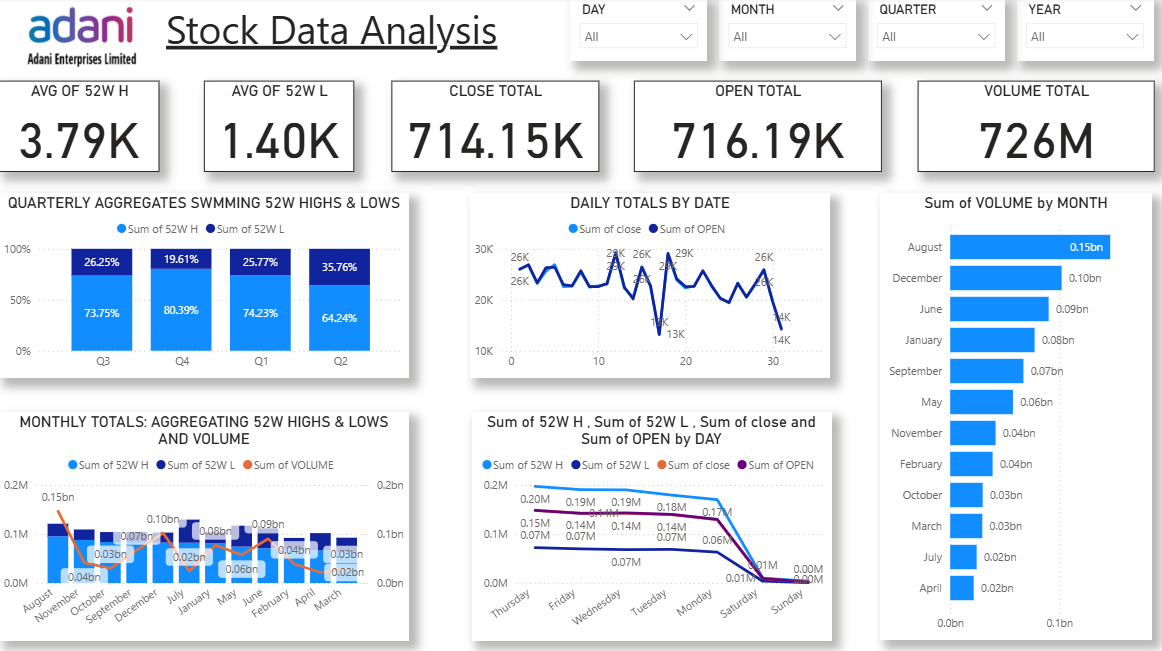

The page's visual inventory and layout, read from the dashboard file:
{"tool":"powerbi","page":{"name":"Page 1","canvas":[1280,720],"ordinal":0},"visuals":[{"type":"slicer","fields":{"Values":["ADANI DATA ANALYST.YEAR"]},"box":[1117,0,150,70],"z":0},{"type":"slicer","fields":{"Values":["ADANI DATA ANALYST.DAY"]},"box":[627.1,0,150,70],"z":1000},{"type":"slicer","fields":{"Values":["ADANI DATA ANALYST.MONTH"]},"box":[790.4,0,150,70],"z":2000},{"type":"slicer","fields":{"Values":["ADANI DATA ANALYST.QUARTER"]},"box":[953.7,0,150,70],"z":3000},{"type":"card","title":"AVG OF 52W H","fields":{"Values":["Avg(ADANI DATA ANALYST.52W H )"]},"box":[0,91.9,175.6,100.2],"z":4000},{"type":"card","title":"VOLUME TOTAL","fields":{"Values":["Sum(ADANI DATA ANALYST.VOLUME )"]},"box":[1008.6,91.9,260,100.2],"z":5000},{"type":"card","title":"CLOSE TOTAL","fields":{"Values":["Sum(ADANI DATA ANALYST.close )"]},"box":[430.9,91.9,227.8,100.2],"z":6000},{"type":"card","title":"AVG OF 52W L","fields":{"Values":["Avg(ADANI DATA ANALYST.52W L )"]},"box":[225,91.9,165,100.2],"z":7000},{"type":"card","title":"OPEN TOTAL","fields":{"Values":["Sum(ADANI DATA ANALYST.OPEN )"]},"box":[697.1,91.9,271.7,100.2],"z":8000},{"type":"hundredPercentStackedColumnChart","title":"QUARTERLY AGGREGATES SWMMING 52W HIGHS & LOWS","fields":{"Y":["Sum(ADANI DATA ANALYST.52W H )","Sum(ADANI DATA ANALYST.52W L )"],"Category":["ADANI DATA ANALYST.QUARTER"]},"box":[0,215,450.1,203.1],"z":9000},{"type":"lineStackedColumnComboChart","title":"MONTHLY TOTALS: AGGREGATING 52W HIGHS & LOWS  AND VOLUME","fields":{"Y":["Sum(ADANI DATA ANALYST.52W H )","Sum(ADANI DATA ANALYST.52W L )"],"Category":["ADANI DATA ANALYST.MONTH"],"Y2":["Sum(ADANI DATA ANALYST.VOLUME )"]},"box":[0,455,450.1,251],"z":10000},{"type":"lineChart","title":"DAILY TOTALS BY DATE","fields":{"Y":["Sum(ADANI DATA ANALYST.close )","Sum(ADANI DATA ANALYST.OPEN )"],"Category":["ADANI DATA ANALYST.Date .Variation.Date Hierarchy.Day"]},"box":[518,215,395,203.1],"z":11000},{"type":"lineChart","fields":{"Y":["Sum(ADANI DATA ANALYST.52W H )","Sum(ADANI DATA ANALYST.52W L )","Sum(ADANI DATA ANALYST.close )","Sum(ADANI DATA ANALYST.OPEN )"],"Category":["ADANI DATA ANALYST.DAY"]},"box":[518.7,455,395,251.1],"z":12000},{"type":"clusteredBarChart","fields":{"Category":["ADANI DATA ANALYST.MONTH"],"Y":["Sum(ADANI DATA ANALYST.VOLUME )"]},"box":[968,215,298,490],"z":13000},{"type":"image","box":[0,0,182,85],"z":14000},{"type":"textbox","box":[178.4,0,426.8,81],"z":15000}]}

Visuals, with their boxes in screenshot pixels (x1, y1, x2, y2), scaled from the page's 1280x720 canvas onto the 1162x651 screenshot:
slicer - ADANI DATA ANALYST.YEAR: <region>1014, 0, 1150, 63</region>
slicer - ADANI DATA ANALYST.DAY: <region>569, 0, 705, 63</region>
slicer - ADANI DATA ANALYST.MONTH: <region>718, 0, 854, 63</region>
slicer - ADANI DATA ANALYST.QUARTER: <region>866, 0, 1002, 63</region>
"AVG OF 52W H" card: <region>0, 83, 159, 174</region>
"VOLUME TOTAL" card: <region>916, 83, 1152, 174</region>
"CLOSE TOTAL" card: <region>391, 83, 598, 174</region>
"AVG OF 52W L" card: <region>204, 83, 354, 174</region>
"OPEN TOTAL" card: <region>633, 83, 879, 174</region>
"QUARTERLY AGGREGATES SWMMING 52W HIGHS & LOWS" hundredPercentStackedColumnChart: <region>0, 194, 409, 378</region>
"MONTHLY TOTALS: AGGREGATING 52W HIGHS & LOWS  AND VOLUME" lineStackedColumnComboChart: <region>0, 411, 409, 638</region>
"DAILY TOTALS BY DATE" lineChart: <region>470, 194, 829, 378</region>
lineChart - Sum(ADANI DATA ANALYST.52W H ) x Sum(ADANI DATA ANALYST.52W L ): <region>471, 411, 829, 638</region>
clusteredBarChart - ADANI DATA ANALYST.MONTH x Sum(ADANI DATA ANALYST.VOLUME ): <region>879, 194, 1149, 637</region>
image: <region>0, 0, 165, 77</region>
textbox: <region>162, 0, 549, 73</region>
